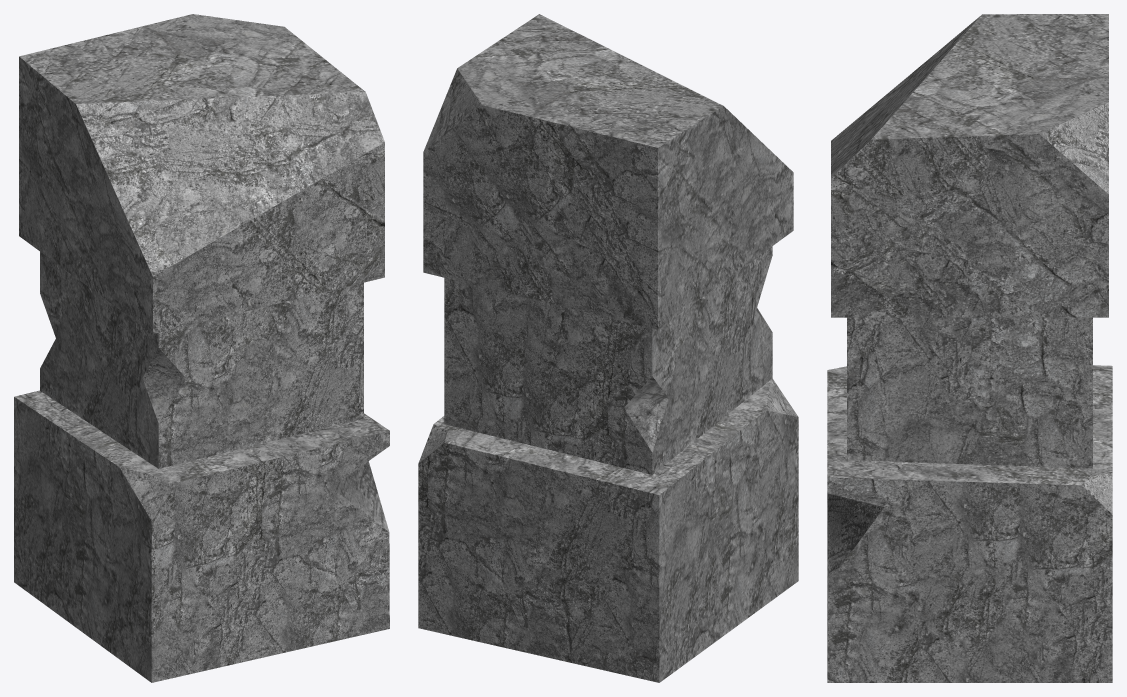
The model's file is materials_3_pillar_6.fbx.
3 views of the same model, side by side, from view 1: azimuth 30°, elevation 25°; view 2: azimuth 150°, elevation 25°; view 3: azimuth 270°, elevation 25° (orthographic). The views are drawn at different scales.
Parts seen in each view (by area): view 1: materials_3_pillar_6; view 2: materials_3_pillar_6; view 3: materials_3_pillar_6.
Part boxes in pixels (box(x1,y1,x2,y2)): materials_3_pillar_6: box(14, 14, 389, 682); materials_3_pillar_6: box(418, 14, 798, 682); materials_3_pillar_6: box(827, 14, 1112, 682).
Bounding box in the file's own units: 76.41 × 163 × 76.14.
